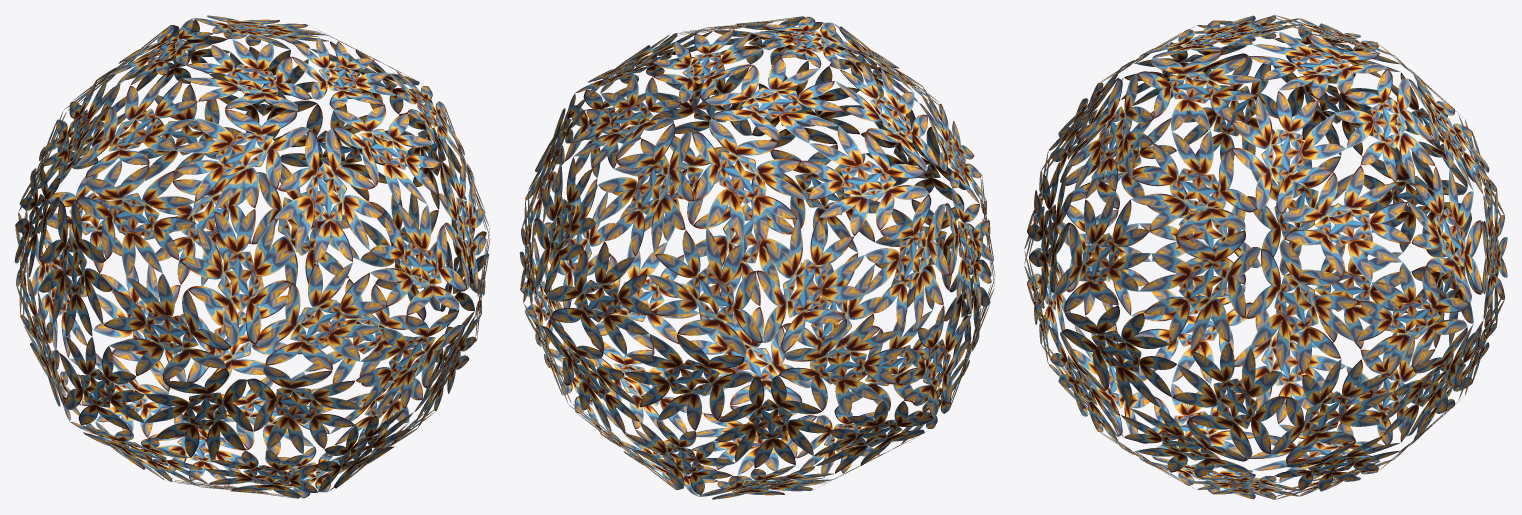
Rendered from PentagonalHexecontahedron1.obj.
3 views of the same model, side by side, from view 1: azimuth 30°, elevation 25°; view 2: azimuth 150°, elevation 25°; view 3: azimuth 270°, elevation 25° (orthographic).
Size of the model in its own units: 4.19 by 4.19 by 4.19.
Materials: 1 (1 with a texture image).
